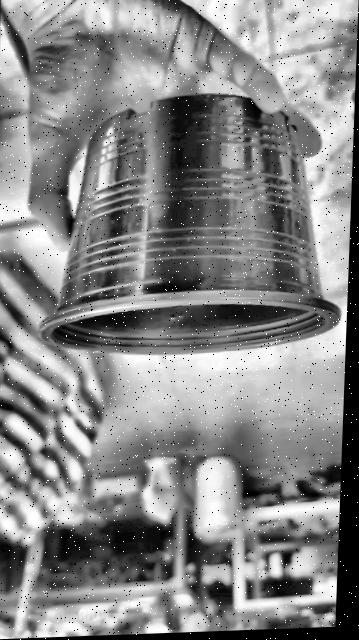pot: (34, 89, 345, 363)
